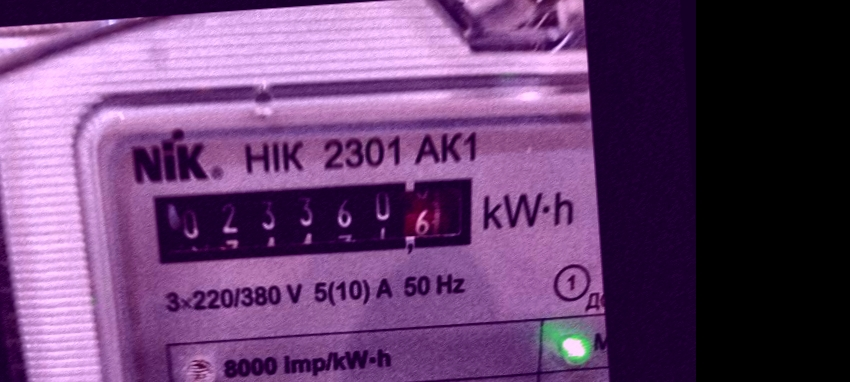0: (177, 204, 201, 240), (369, 187, 393, 223)
2: (216, 199, 240, 236)
3: (255, 197, 278, 233), (294, 193, 314, 228)
6: (331, 193, 354, 229), (410, 203, 430, 237)
screen: (138, 161, 495, 284)
